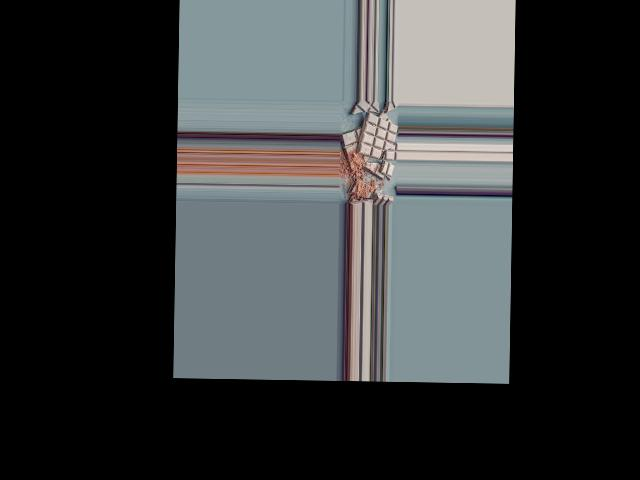chocolate: (357, 111, 398, 158)
